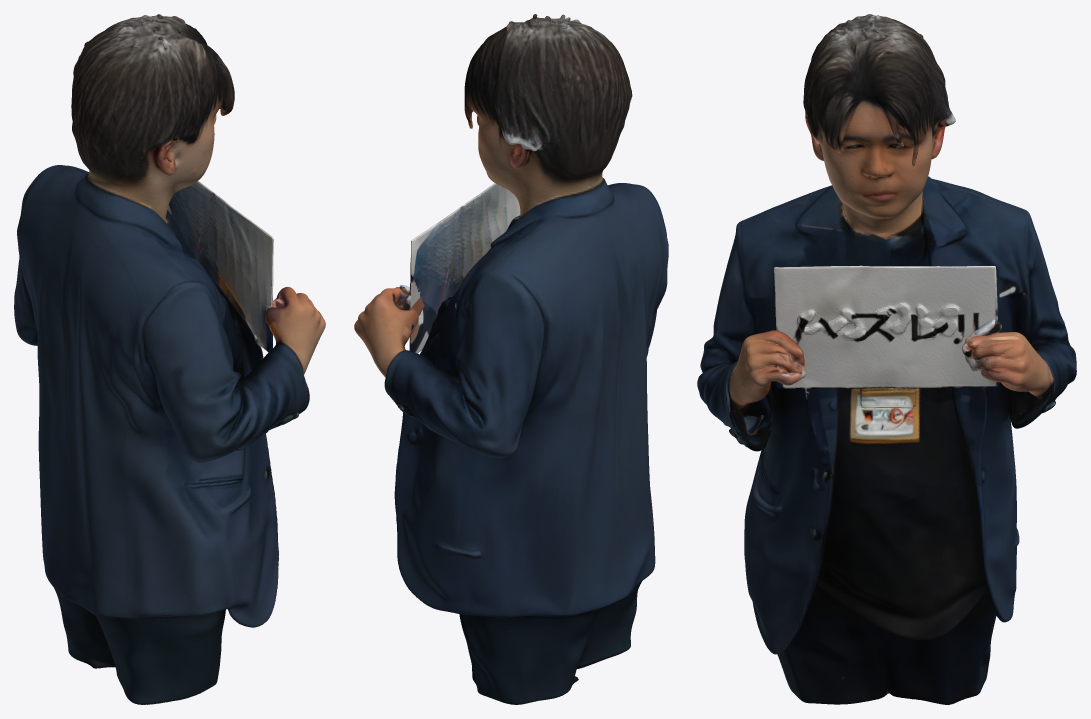
3 renders of one model, left to right at view 1: azimuth 30°, elevation 25°; view 2: azimuth 150°, elevation 25°; view 3: azimuth 270°, elevation 25°, orthographic. The views are drawn at different scales.
Parts seen in each view (by area): view 1: tripo_node_489ab0d8-ea4e-4f5c-8ba8-20bfdc37c62c; view 2: tripo_node_489ab0d8-ea4e-4f5c-8ba8-20bfdc37c62c; view 3: tripo_node_489ab0d8-ea4e-4f5c-8ba8-20bfdc37c62c.
Boxes of the visible parts, box(x1,y1,x2,y2) form: tripo_node_489ab0d8-ea4e-4f5c-8ba8-20bfdc37c62c: box(14, 14, 325, 704); tripo_node_489ab0d8-ea4e-4f5c-8ba8-20bfdc37c62c: box(354, 14, 668, 704); tripo_node_489ab0d8-ea4e-4f5c-8ba8-20bfdc37c62c: box(697, 14, 1076, 704).
Size of the model in its own units: 0.3384 by 1 by 0.5195.
Materials: 1 (1 with a texture image).
